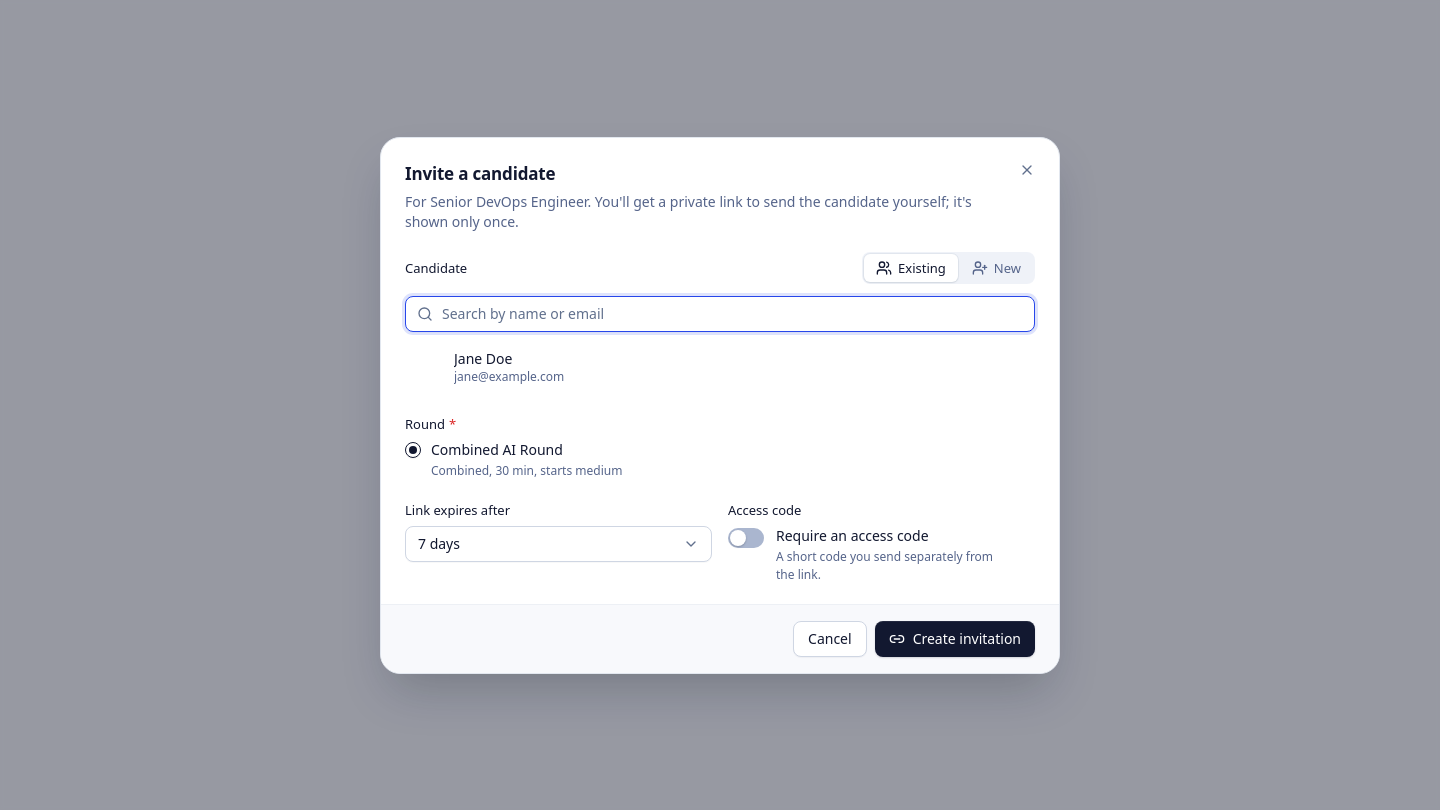
Test: InviteDialog › shows the invite link and access code exactly once with copy buttons
The image size is (1440, 810).
Click the radio button labelled "Jane Doe jane@example.com": (483, 358) top-left (405, 340), bottom-right (1035, 394)
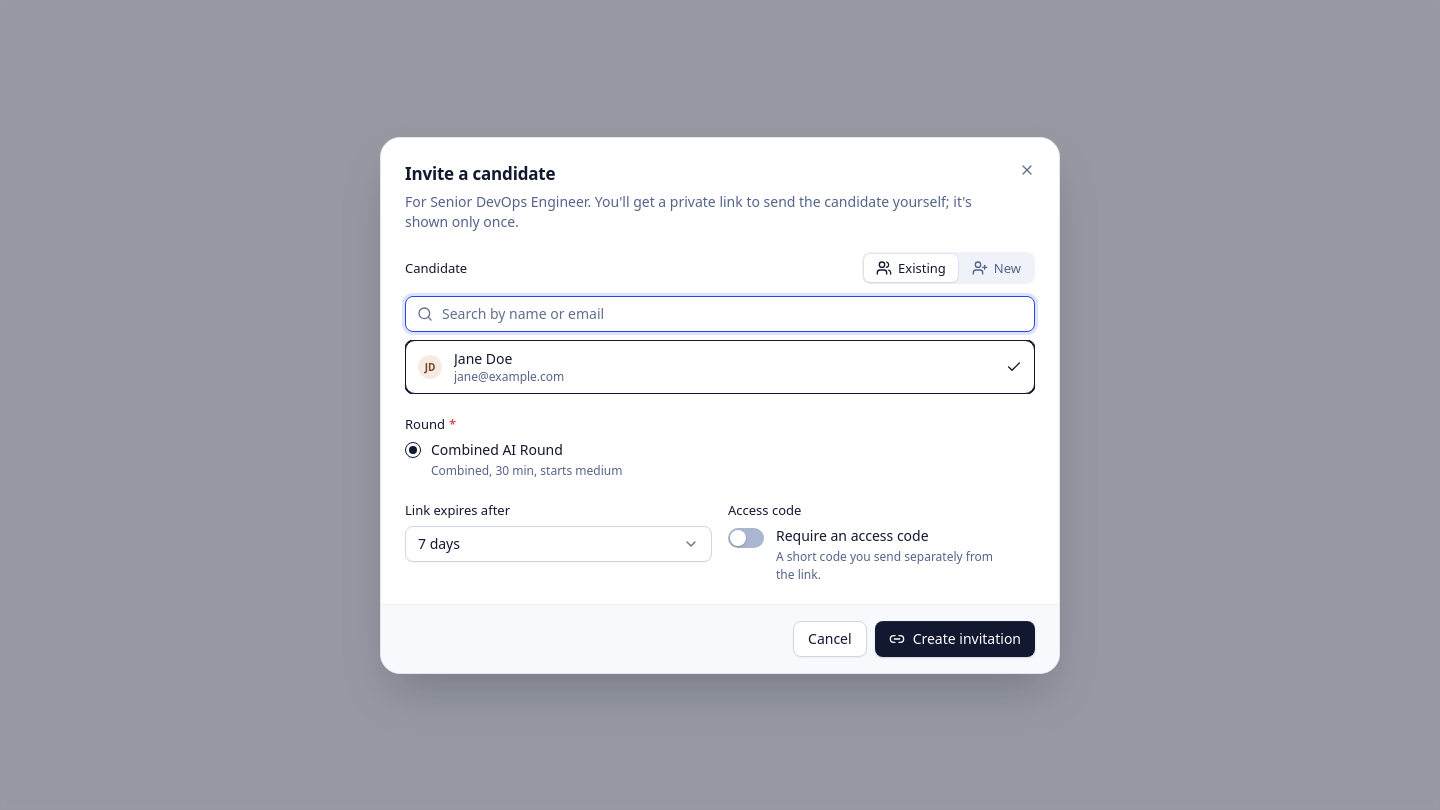
Click the switch named "require an access code": (746, 538) top-left (728, 528), bottom-right (764, 548)
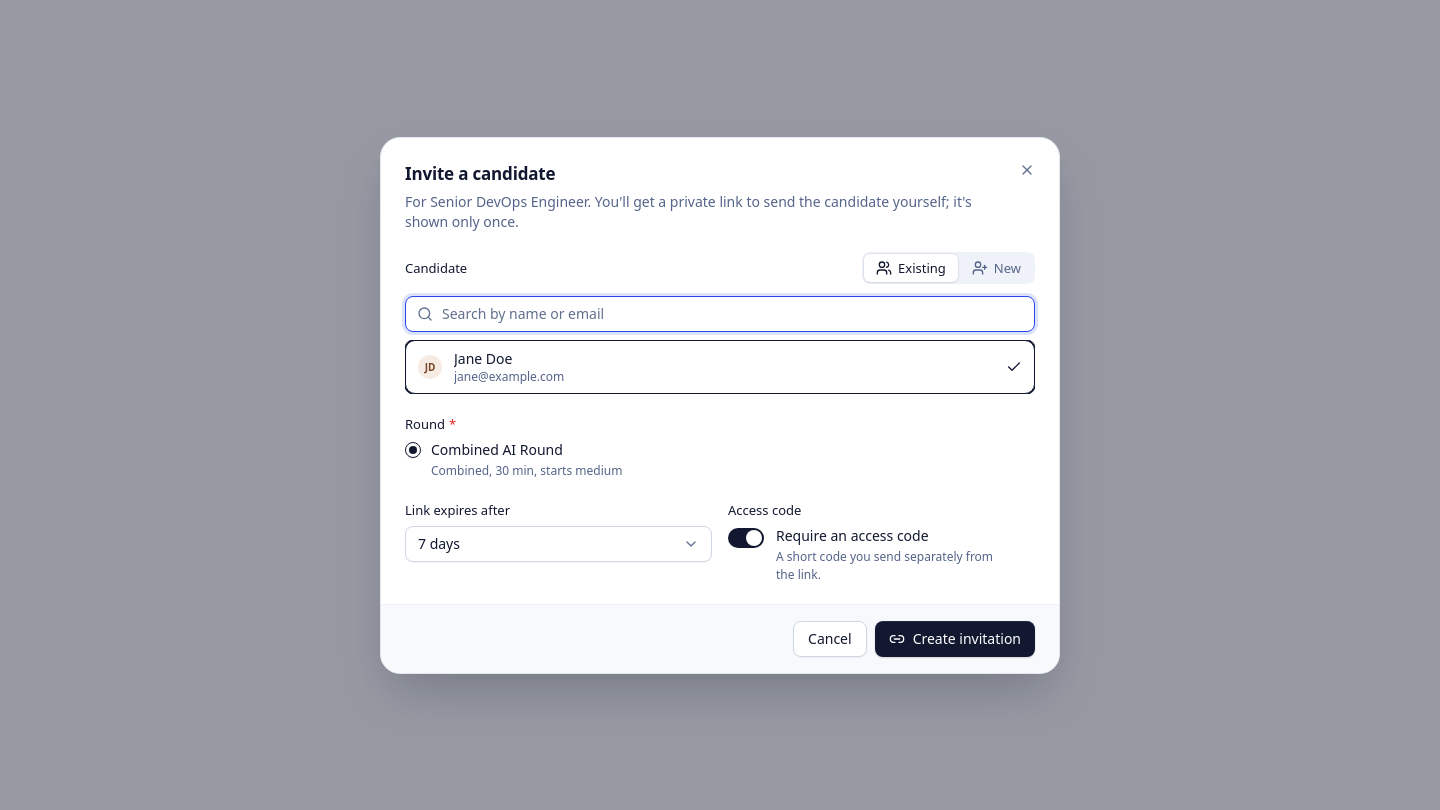
Click the button "Create invitation": (955, 638) top-left (875, 620), bottom-right (1035, 656)
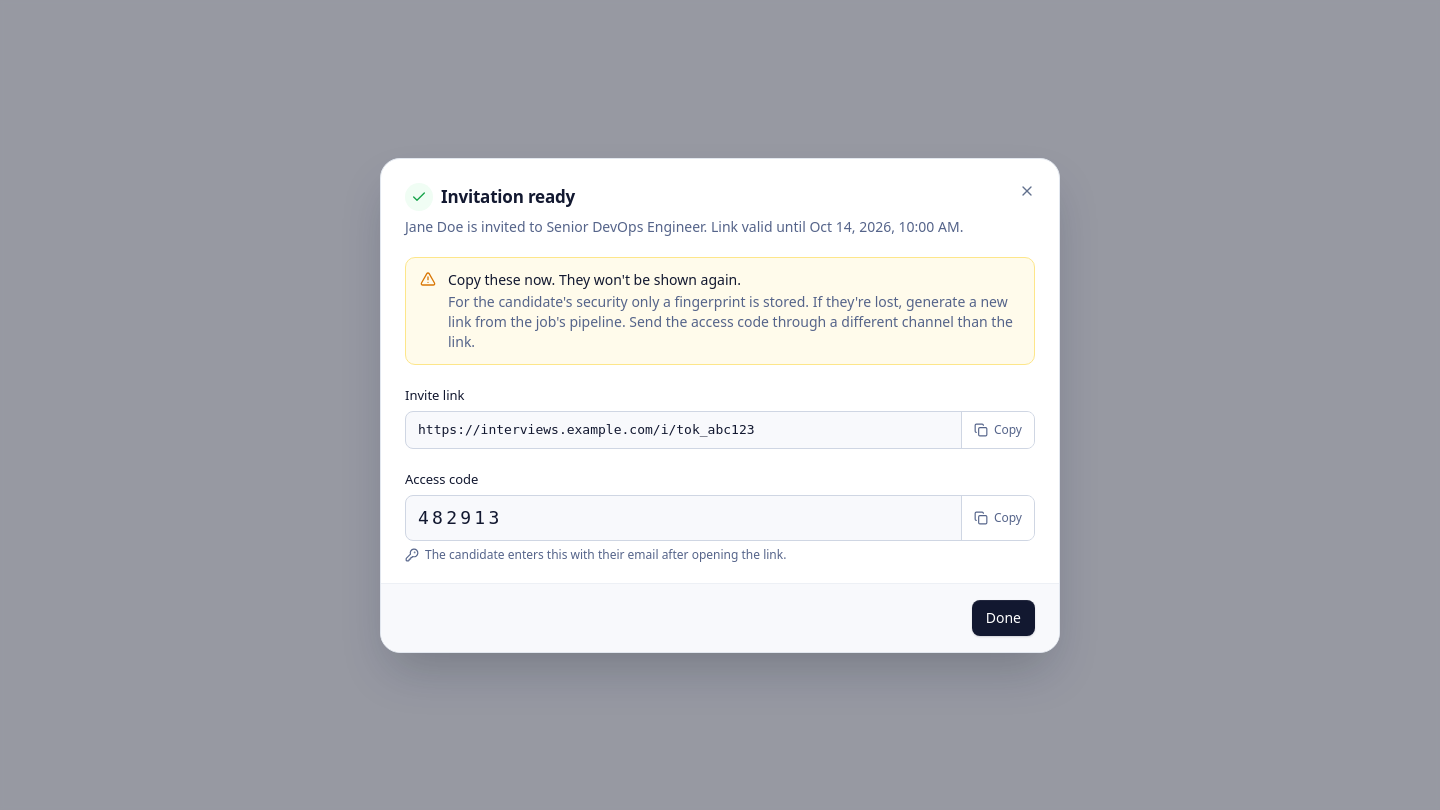
Now the text with test id "invite-link" reads "https://interviews.example.com/i/tok_abc123", box top-left (418, 422), bottom-right (754, 436)
Now the text with test id "invite-access-code" reads "482913", box top-left (418, 506), bottom-right (502, 528)
Now the text "Copy these now. They won't be shown again." is shown, box top-left (448, 270), bottom-right (741, 288)
